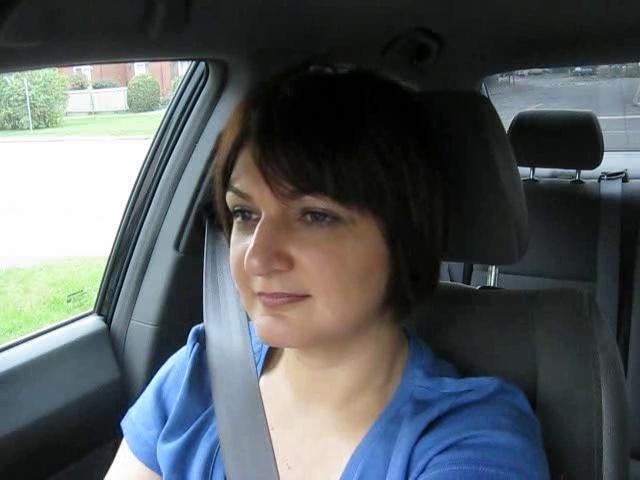no_yawn: (242, 279, 322, 316)
open_eyeL: (220, 200, 267, 230)
open_eyeR: (285, 198, 358, 238)
